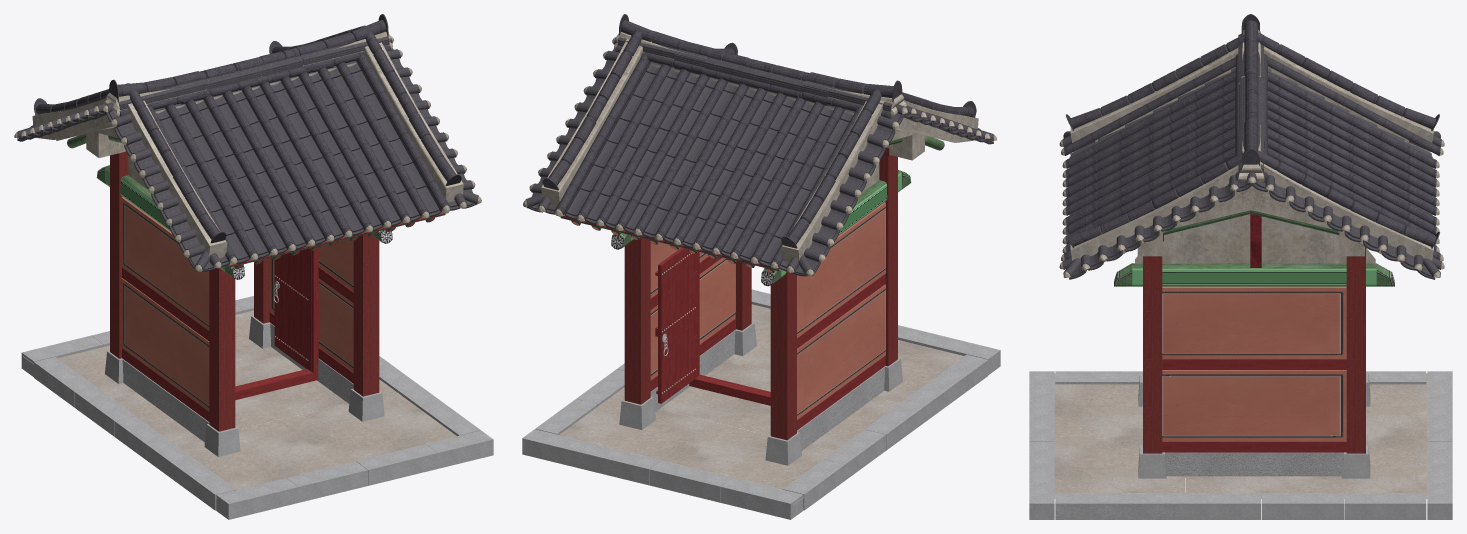
File: SM_Smallgate_2.fbx
3 views of the same model, side by side, from view 1: azimuth 30°, elevation 25°; view 2: azimuth 150°, elevation 25°; view 3: azimuth 270°, elevation 25° (orthographic). The views are drawn at different scales.
Visible parts, largest first — view 1: SM_Smallgate_2; view 2: SM_Smallgate_2; view 3: SM_Smallgate_2.
Boxes of the visible parts, <box> form: SM_Smallgate_2: <box>14,14,493,519</box>; SM_Smallgate_2: <box>522,14,1000,519</box>; SM_Smallgate_2: <box>1029,14,1452,519</box>.
Size of the model in its own units: 569 by 701 by 676.
